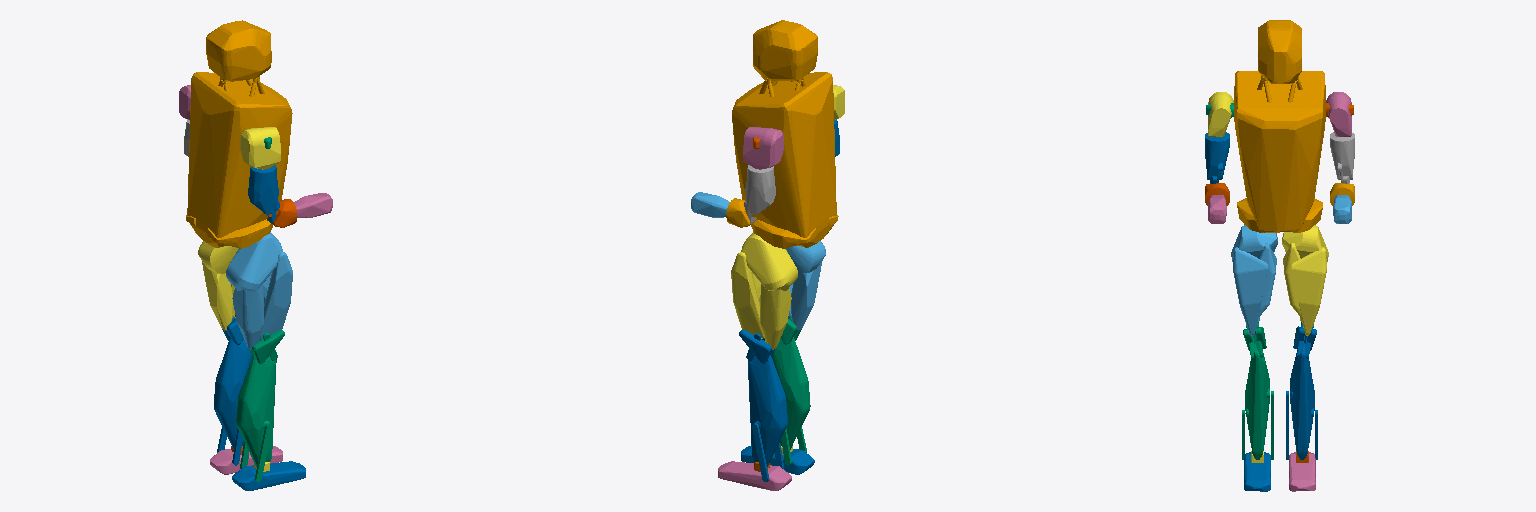
The robot description file, URDF, robot "dropbear_serial_cem6_2026_10_16":
<?xml version="1.0"?>
<!-- GENERATED by tools/export_serial_hw.py from data/robot/dropbear_serial.xml (sha256 1564a82c6fcc7f10). DERIVED, NOT CANONICAL: dropbear-semantic-v1 serial joints, closed loops collapsed, masses lumped from the USD (total 56.175 kg). effort = sum|J| x PEAK of hw map 'cem6_2026_10_16' at the stand (upper bound), velocity = first coupled motor at no-load; armature/rated/kp/kd per joint in the comment. Motor-space limits (hw_motor_specs) are the source of truth. Do not edit by hand. -->
<robot name="dropbear_serial_cem6_2026_10_16">
  <link name="pelvis">
    <inertial><origin xyz="-0.05276259 0.00117719 0.32691659" rpy="0 0 0"/><mass value="25.614368"/><inertia ixx="1.28768434" ixy="-0.000254852" ixz="-0.070223642" iyy="1.26313905" iyz="-0.000599618" izz="0.325192407"/></inertial>
    <visual><origin xyz="-3.46944695e-17 9.21571847e-19 2.22044605e-16" rpy="-3.30553789e-19 2.24844806e-18 1.22969549e-17"/><geometry><mesh filename="meshes/mesh_pelvis.stl"/></geometry></visual>
  </link>
  <link name="left_hip_pitch_link">
    <inertial><origin xyz="0 0 0" rpy="0 0 0"/><mass value="0.01"/><inertia ixx="1e-05" ixy="0" ixz="0" iyy="1e-05" iyz="0" izz="1e-05"/></inertial>
  </link>
  <link name="left_hip_roll_link">
    <inertial><origin xyz="0 0 0" rpy="0 0 0"/><mass value="0.01"/><inertia ixx="1e-05" ixy="0" ixz="0" iyy="1e-05" iyz="0" izz="1e-05"/></inertial>
  </link>
  <link name="left_hip_yaw_link">
    <inertial><origin xyz="-0.02605913 0.04554609 -0.09173485" rpy="0 0 0"/><mass value="5.768055"/><inertia ixx="0.062462836" ixy="0.00014812" ixz="-0.001910969" iyy="0.074072299" iyz="0.00100805" izz="0.023644899"/></inertial>
    <visual><origin xyz="1.90819582e-17 -1.5959456e-16 5.27355937e-16" rpy="-9.26631385e-18 2.09195787e-17 2.47965594e-17"/><geometry><mesh filename="meshes/mesh_left_hip_yaw_link.stl"/></geometry></visual>
  </link>
  <link name="left_knee_link">
    <inertial><origin xyz="-0.08756693 0.0402031 -0.05707866" rpy="0 0 0"/><mass value="3.497937"/><inertia ixx="0.083033605" ixy="3.451e-06" ixz="-0.005914893" iyy="0.084118731" iyz="0.003904969" izz="0.007456186"/></inertial>
    <visual><origin xyz="2.77555756e-16 -1.31838984e-16 9.71445147e-17" rpy="4.61141921e-18 -8.74676759e-18 -1.05688893e-17"/><geometry><mesh filename="meshes/mesh_left_knee_link.stl"/></geometry></visual>
  </link>
  <link name="left_ankle_pitch_link">
    <inertial><origin xyz="-2.372e-05 0.00985977 -0.02139279" rpy="0 0 0"/><mass value="0.104245"/><inertia ixx="7.2119e-05" ixy="-1.75e-07" ixz="7.1e-08" iyy="5.9559e-05" iyz="-8.953e-06" izz="3.9322e-05"/></inertial>
    <visual><origin xyz="2.37169225e-20 -1.73472348e-17 2.42861287e-17" rpy="1.11960236e-19 -4.71292408e-19 9.68790218e-19"/><geometry><mesh filename="meshes/mesh_left_ankle_pitch_link.stl"/></geometry></visual>
  </link>
  <link name="left_ankle_roll_link">
    <inertial><origin xyz="0.02930599 0.00044839 -0.00756169" rpy="0 0 0"/><mass value="0.935217"/><inertia ixx="0.007999991" ixy="-0.00032221" ixz="-5.2586e-05" iyy="0.012203137" iyz="-0.002320467" izz="0.008299293"/></inertial>
    <visual><origin xyz="-2.18575158e-16 -4.98732999e-18 3.81639165e-17" rpy="1.1007881e-19 -3.96779759e-17 -3.86753195e-19"/><geometry><mesh filename="meshes/mesh_left_ankle_roll_link.stl"/></geometry></visual>
  </link>
  <link name="right_hip_pitch_link">
    <inertial><origin xyz="0 0 0" rpy="0 0 0"/><mass value="0.01"/><inertia ixx="1e-05" ixy="0" ixz="0" iyy="1e-05" iyz="0" izz="1e-05"/></inertial>
  </link>
  <link name="right_hip_roll_link">
    <inertial><origin xyz="0 0 0" rpy="0 0 0"/><mass value="0.01"/><inertia ixx="1e-05" ixy="0" ixz="0" iyy="1e-05" iyz="0" izz="1e-05"/></inertial>
  </link>
  <link name="right_hip_yaw_link">
    <inertial><origin xyz="-0.02718943 -0.04571627 -0.09154041" rpy="0 0 0"/><mass value="5.77635"/><inertia ixx="0.062687711" ixy="-0.000110081" ixz="-0.001912859" iyy="0.074531727" iyz="-0.001710632" izz="0.023406176"/></inertial>
    <visual><origin xyz="2.42861287e-17 1.17961196e-16 3.60822483e-16" rpy="5.23731269e-18 -1.20311323e-17 6.42521679e-19"/><geometry><mesh filename="meshes/mesh_right_hip_yaw_link.stl"/></geometry></visual>
  </link>
  <link name="right_knee_link">
    <inertial><origin xyz="-0.0875803 -0.04020399 -0.05975266" rpy="0 0 0"/><mass value="3.497937"/><inertia ixx="0.083019384" ixy="-0.000689239" ixz="-0.005962921" iyy="0.084114273" iyz="-0.009354553" izz="0.007465708"/></inertial>
    <visual><origin xyz="2.35922393e-16 1.17961196e-16 9.02056208e-17" rpy="2.46859741e-17 2.08462494e-17 1.50708304e-16"/><geometry><mesh filename="meshes/mesh_right_knee_link.stl"/></geometry></visual>
  </link>
  <link name="right_ankle_pitch_link">
    <inertial><origin xyz="-3.104e-05 -0.00986025 -0.02139654" rpy="0 0 0"/><mass value="0.104245"/><inertia ixx="7.2107e-05" ixy="-3.71e-07" ixz="-1.2e-07" iyy="6.2955e-05" iyz="-4.37e-07" izz="3.5938e-05"/></inertial>
    <visual><origin xyz="1.01643954e-20 1.73472348e-18 3.46944695e-18" rpy="-4.86270359e-20 2.25822239e-20 6.371886e-19"/><geometry><mesh filename="meshes/mesh_right_ankle_pitch_link.stl"/></geometry></visual>
  </link>
  <link name="right_ankle_roll_link">
    <inertial><origin xyz="0.02931384 -0.00048246 -0.00752314" rpy="0 0 0"/><mass value="0.935217"/><inertia ixx="0.007989099" ixy="-0.000211066" ixz="-0.000174729" iyy="0.013178816" iyz="-0.000349537" izz="0.007334506"/></inertial>
    <visual><origin xyz="-2.08166817e-16 5.09575021e-18 3.46944695e-17" rpy="-2.80195421e-19 -1.85180993e-16 6.59834953e-19"/><geometry><mesh filename="meshes/mesh_right_ankle_roll_link.stl"/></geometry></visual>
  </link>
  <link name="left_shoulder_pitch_link">
    <inertial><origin xyz="0.00141069 0.02653182 6e-08" rpy="0 0 0"/><mass value="0.343923"/><inertia ixx="0.000426784" ixy="-1.1385e-05" ixz="7.95681245e-22" iyy="0.00011962" iyz="1e-09" izz="0.000443404"/></inertial>
    <visual><origin xyz="-2.25514052e-17 -3.05311332e-16 -2.51801719e-18" rpy="6.76301913e-17 7.3191391e-17 1.05711313e-17"/><geometry><mesh filename="meshes/mesh_left_shoulder_pitch_link.stl"/></geometry></visual>
  </link>
  <link name="left_shoulder_roll_link">
    <inertial><origin xyz="-0.0291094 0.00435951 -0.01811314" rpy="0 0 0"/><mass value="1.200415"/><inertia ixx="0.002522438" ixy="-0.000125576" ixz="0.000502998" iyy="0.003543962" iyz="0.000234063" izz="0.002478347"/></inertial>
    <visual><origin xyz="3.6429193e-17 -2.25514052e-17 9.36750677e-17" rpy="6.04449705e-18 3.74903463e-17 -1.34667751e-17"/><geometry><mesh filename="meshes/mesh_left_shoulder_roll_link.stl"/></geometry></visual>
  </link>
  <link name="left_shoulder_yaw_link">
    <inertial><origin xyz="0.00151562 0.00606547 -0.17773896" rpy="0 0 0"/><mass value="1.837935"/><inertia ixx="0.013360456" ixy="0.000387625" ixz="0.001273172" iyy="0.014018546" iyz="-0.001671003" izz="0.003832121"/></inertial>
    <visual><origin xyz="-1.95156391e-17 -1.69135539e-17 7.49400542e-16" rpy="-1.73718487e-17 2.81840137e-17 -2.6549467e-17"/><geometry><mesh filename="meshes/mesh_left_shoulder_yaw_link.stl"/></geometry></visual>
  </link>
  <link name="left_elbow_link">
    <inertial><origin xyz="0.0709169 0.00987912 -0.02090957" rpy="0 0 0"/><mass value="0.91566"/><inertia ixx="0.001535587" ixy="0.001055547" ixz="-0.000120596" iyy="0.004601152" iyz="3.8791e-05" izz="0.00492998"/></inertial>
    <visual><origin xyz="-4.64905892e-16 -1.11022302e-16 1.73472348e-16" rpy="-3.34337033e-17 -2.56768429e-17 7.99438102e-17"/><geometry><mesh filename="meshes/mesh_left_elbow_link.stl"/></geometry></visual>
  </link>
  <link name="left_wrist_roll_link">
    <inertial><origin xyz="0.09482238 -1.3e-07 -3.659e-05" rpy="0 0 0"/><mass value="0.65258"/><inertia ixx="0.000350034" ixy="2.6e-08" ixz="3.16e-07" iyy="0.001254792" iyz="8.15783608e-22" izz="0.0012628"/></inertial>
    <visual><origin xyz="-7.35522754e-16 -1.73218238e-19 5.4142346e-18" rpy="1.30051346e-17 5.73555976e-17 1.98348538e-18"/><geometry><mesh filename="meshes/mesh_left_wrist_roll_link.stl"/></geometry></visual>
  </link>
  <link name="right_shoulder_pitch_link">
    <inertial><origin xyz="0.00140957 -0.02653214 2.6e-07" rpy="0 0 0"/><mass value="0.343923"/><inertia ixx="0.000426777" ixy="1.1385e-05" ixz="-2.20401017e-21" iyy="0.00011962" iyz="-1e-09" izz="0.000443397"/></inertial>
    <visual><origin xyz="-1.6479873e-17 2.42861287e-16 6.46709655e-19" rpy="1.78889002e-17 -2.05153102e-17 2.54158221e-17"/><geometry><mesh filename="meshes/mesh_right_shoulder_pitch_link.stl"/></geometry></visual>
  </link>
  <link name="right_shoulder_roll_link">
    <inertial><origin xyz="-0.0291094 -0.00435976 -0.01811298" rpy="0 0 0"/><mass value="1.200415"/><inertia ixx="0.002522439" ixy="0.000121408" ixz="0.000502998" iyy="0.003543962" iyz="-0.000248063" izz="0.002478347"/></inertial>
    <visual><origin xyz="2.77555756e-17 1.73472348e-17 6.59194921e-17" rpy="-2.85243167e-17 -7.46358252e-17 -6.28270476e-18"/><geometry><mesh filename="meshes/mesh_right_shoulder_roll_link.stl"/></geometry></visual>
  </link>
  <link name="right_shoulder_yaw_link">
    <inertial><origin xyz="0.00150219 -0.00606527 -0.17776347" rpy="0 0 0"/><mass value="1.837935"/><inertia ixx="0.013406779" ixy="0.000366114" ixz="0.001269261" iyy="0.014024188" iyz="-0.002482858" izz="0.003791443"/></inertial>
    <visual><origin xyz="-9.97465999e-18 1.17093835e-17 6.66133815e-16" rpy="-5.32303234e-18 -1.13596387e-17 2.15235843e-17"/><geometry><mesh filename="meshes/mesh_right_shoulder_yaw_link.stl"/></geometry></visual>
  </link>
  <link name="right_elbow_link">
    <inertial><origin xyz="0.06937028 -0.00987964 -0.0206965" rpy="0 0 0"/><mass value="0.91566"/><inertia ixx="0.001535918" ixy="0.000947974" ixz="-0.000120747" iyy="0.004596874" iyz="3.7273e-05" izz="0.004925373"/></inertial>
    <visual><origin xyz="-2.08166817e-16 5.03069808e-17 7.63278329e-17" rpy="-4.62106923e-17 -4.92157441e-17 -1.38581974e-16"/><geometry><mesh filename="meshes/mesh_right_elbow_link.stl"/></geometry></visual>
  </link>
  <link name="right_wrist_roll_link">
    <inertial><origin xyz="0.09482256 6e-08 -3.671e-05" rpy="0 0 0"/><mass value="0.65258"/><inertia ixx="0.000350034" ixy="-2.6e-08" ixz="3.16e-07" iyy="0.001254792" iyz="-8.15783608e-22" izz="0.0012628"/></inertial>
    <visual><origin xyz="-7.21644966e-16 -2.61521422e-20 -5.42101086e-19" rpy="9.06783844e-18 -9.1827299e-18 2.54712494e-19"/><geometry><mesh filename="meshes/mesh_right_wrist_roll_link.stl"/></geometry></visual>
  </link>
  <link name="torso_link">
  </link>
  <link name="head_link">
  </link>
  <joint name="left_hip_pitch" type="revolute"><parent link="pelvis"/><child link="left_hip_pitch_link"/><origin xyz="-0.00040929 0.07591014 0.00607059" rpy="0 -0 0"/><axis xyz="0 1 0"/><limit lower="-1.02643083" upper="0.584710742" effort="82.15" velocity="8.504"/><dynamics damping="0.5" friction="0"/></joint><!-- left_hip_pitch: armature 0.06200 kg*m^2, rated 62.76 N*m, kp 198.7, kd 5.005; motors {'PG_left_leg_pitch': 'EPS-CEM-60-V2', 'PG_left_leg_roll': 'RMD-X10-V3-1:7', 'LL_hip_joint': 'EPS-CEM-60-V2'} -->
  <joint name="left_hip_roll" type="revolute"><parent link="left_hip_pitch_link"/><child link="left_hip_roll_link"/><origin xyz="0.00040934 -0.01429345 0.06972254" rpy="0 -0 0"/><axis xyz="1 0 0"/><limit lower="-0.497732548" upper="0.793191191" effort="80.17" velocity="8.435"/><dynamics damping="0.5" friction="0"/></joint><!-- left_hip_roll: armature 0.06249 kg*m^2, rated 62.32 N*m, kp 149.8, kd 4.991; motors {'PG_left_leg_pitch': 'EPS-CEM-60-V2', 'PG_left_leg_roll': 'RMD-X10-V3-1:7', 'LL_hip_joint': 'EPS-CEM-60-V2'} -->
  <joint name="left_hip_yaw" type="revolute"><parent link="left_hip_roll_link"/><child link="left_hip_yaw_link"/><origin xyz="-0.00065675 -0.00663526 -0.07579357" rpy="0 -0 0"/><axis xyz="0 0 1"/><limit lower="-0.665783781" upper="0.660981186" effort="61.01" velocity="19.97"/><dynamics damping="0.5" friction="0"/></joint><!-- left_hip_yaw: armature 0.02941 kg*m^2, rated 32.18 N*m, kp 151.8, kd 5.007; motors {'PG_left_leg_pitch': 'EPS-CEM-60-V2', 'PG_left_leg_roll': 'RMD-X10-V3-1:7', 'LL_hip_joint': 'EPS-CEM-60-V2'} -->
  <joint name="left_knee" type="revolute"><parent link="left_hip_yaw_link"/><child link="left_knee_link"/><origin xyz="0.08274892 0.00090455 -0.57988091" rpy="-0.172096147 0.00170334874 0.0197457977"/><axis xyz="0 1 0"/><limit lower="-0.084924409" upper="0.823478274" effort="41.86" velocity="15.01"/><dynamics damping="0.5" friction="0"/></joint><!-- left_knee: armature 0.01963 kg*m^2, rated 33.49 N*m, kp 155.8, kd 1.558; motors {'LL_knee_actuator_joint': 'EPS-CEM-60-V2'} -->
  <joint name="left_ankle_pitch" type="revolute"><parent link="left_knee_link"/><child link="left_ankle_pitch_link"/><origin xyz="-0.07550804 0.07794833 -0.32723421" rpy="0.172096147 0.00170334874 -0.0197457977"/><axis xyz="0 1 0"/><limit lower="-0.707061449" upper="0.767635872" effort="55.82" velocity="12.9"/><dynamics damping="0.5" friction="0"/></joint><!-- left_ankle_pitch: armature 0.07048 kg*m^2, rated 22.33 N*m, kp 204.7, kd 10.24; motors {'LL_Revolute67': 'RMD-X8-Pro-V2-1:9', 'LL_Revolute81': 'RMD-X8-Pro-V2-1:9'} -->
  <joint name="left_ankle_roll" type="revolute"><parent link="left_ankle_pitch_link"/><child link="left_ankle_roll_link"/><origin xyz="9.56e-06 0.00990797 -0.04025261" rpy="0 -0 0"/><axis xyz="1 0 0"/><limit lower="-0.783363706" upper="0.570920306" effort="73.52" velocity="9.744"/><dynamics damping="0.5" friction="0"/></joint><!-- left_ankle_roll: armature 0.12251 kg*m^2, rated 29.41 N*m, kp 355.9, kd 17.79; motors {'LL_Revolute67': 'RMD-X8-Pro-V2-1:9', 'LL_Revolute81': 'RMD-X8-Pro-V2-1:9'} -->
  <joint name="right_hip_pitch" type="revolute"><parent link="pelvis"/><child link="right_hip_pitch_link"/><origin xyz="-0.00031341 -0.07591014 0.00591324" rpy="0 -0 0"/><axis xyz="0 1 0"/><limit lower="-1.02475391" upper="0.584734182" effort="82.28" velocity="8.503"/><dynamics damping="0.5" friction="0"/></joint><!-- right_hip_pitch: armature 0.06202 kg*m^2, rated 62.86 N*m, kp 198.7, kd 5.007; motors {'PG_right_leg_pitch': 'EPS-CEM-60-V2', 'PG_right_leg_roll': 'RMD-X10-V3-1:7', 'RL_hip_joint': 'EPS-CEM-60-V2'} -->
  <joint name="right_hip_roll" type="revolute"><parent link="right_hip_pitch_link"/><child link="right_hip_roll_link"/><origin xyz="0.00031337 0.01417398 0.06918984" rpy="0 -0 0"/><axis xyz="1 0 0"/><limit lower="-0.790069303" upper="0.494695399" effort="80.33" velocity="8.428"/><dynamics damping="0.5" friction="0"/></joint><!-- right_hip_roll: armature 0.06260 kg*m^2, rated 62.42 N*m, kp 150.1, kd 5.001; motors {'PG_right_leg_pitch': 'EPS-CEM-60-V2', 'PG_right_leg_roll': 'RMD-X10-V3-1:7', 'RL_hip_joint': 'EPS-CEM-60-V2'} -->
  <joint name="right_hip_yaw" type="revolute"><parent link="right_hip_roll_link"/><child link="right_hip_yaw_link"/><origin xyz="0.00053521 0.00701623 -0.07510265" rpy="0 -0 0"/><axis xyz="0 0 1"/><limit lower="-0.664176495" upper="0.664058959" effort="60.39" velocity="19.97"/><dynamics damping="0.5" friction="0"/></joint><!-- right_hip_yaw: armature 0.02927 kg*m^2, rated 31.68 N*m, kp 151.4, kd 4.996; motors {'PG_right_leg_pitch': 'EPS-CEM-60-V2', 'PG_right_leg_roll': 'RMD-X10-V3-1:7', 'RL_hip_joint': 'EPS-CEM-60-V2'} -->
  <joint name="right_knee" type="revolute"><parent link="right_hip_yaw_link"/><child link="right_knee_link"/><origin xyz="0.08180791 -0.00163093 -0.57725429" rpy="0.172102939 0.00171067025 -0.019829879"/><axis xyz="0 1 0"/><limit lower="-0.085897619" upper="0.838013749" effort="41.34" velocity="15.2"/><dynamics damping="0.5" friction="0"/></joint><!-- right_knee: armature 0.01914 kg*m^2, rated 33.07 N*m, kp 151.9, kd 1.519; motors {'RL_knee_actuator_joint': 'EPS-CEM-60-V2'} -->
  <joint name="right_ankle_pitch" type="revolute"><parent link="right_knee_link"/><child link="right_ankle_pitch_link"/><origin xyz="-0.07562846 -0.07794774 -0.32990166" rpy="-0.172102939 0.00171067025 0.019829879"/><axis xyz="0 1 0"/><limit lower="-0.771028324" upper="0.744878518" effort="55.87" velocity="12.78"/><dynamics damping="0.5" friction="0"/></joint><!-- right_ankle_pitch: armature 0.07085 kg*m^2, rated 22.35 N*m, kp 205.8, kd 10.29; motors {'RL_Revolute67': 'RMD-X8-Pro-V2-1:9', 'RL_Revolute81': 'RMD-X8-Pro-V2-1:9'} -->
  <joint name="right_ankle_roll" type="revolute"><parent link="right_ankle_pitch_link"/><child link="right_ankle_roll_link"/><origin xyz="-1.25e-06 -0.00987667 -0.04028791" rpy="0 -0 0"/><axis xyz="1 0 0"/><limit lower="-0.528420333" upper="0.838770967" effort="73.64" velocity="9.737"/><dynamics damping="0.5" friction="0"/></joint><!-- right_ankle_roll: armature 0.12285 kg*m^2, rated 29.45 N*m, kp 356.9, kd 17.84; motors {'RL_Revolute67': 'RMD-X8-Pro-V2-1:9', 'RL_Revolute81': 'RMD-X8-Pro-V2-1:9'} -->
  <joint name="left_shoulder_pitch" type="revolute"><parent link="pelvis"/><child link="left_shoulder_pitch_link"/><origin xyz="-0.07628731 0.17450197 0.50910023" rpy="0 -0 0"/><axis xyz="0 1 0"/><limit lower="-3.14227917" upper="3.14254433" effort="40" velocity="19.54"/><dynamics damping="0.5" friction="0"/></joint><!-- left_shoulder_pitch: armature 0.02781 kg*m^2, rated 15 N*m, kp 80, kd 3; motors {'LH_yaw': 'RMD-X10-V3-1:7'} -->
  <joint name="left_shoulder_roll" type="revolute"><parent link="left_shoulder_pitch_link"/><child link="left_shoulder_roll_link"/><origin xyz="-4e-08 0.05000049 1.4e-07" rpy="0 -0 0"/><axis xyz="1 0 0"/><limit lower="-0.174579373" upper="3.14163226" effort="25" velocity="16.76"/><dynamics damping="0.5" friction="0"/></joint><!-- left_shoulder_roll: armature 0.02754 kg*m^2, rated 10 N*m, kp 50, kd 2; motors {'LH_pitch': 'RMD-X8-Pro-V2-1:9'} -->
  <joint name="left_shoulder_yaw" type="revolute"><parent link="left_shoulder_roll_link"/><child link="left_shoulder_yaw_link"/><origin xyz="1.09e-06 0.01399955 -1.4e-07" rpy="0 -0 0"/><axis xyz="0 0 1"/><limit lower="-3.14228523" upper="3.14254515" effort="25" velocity="16.76"/><dynamics damping="0.5" friction="0"/></joint><!-- left_shoulder_yaw: armature 0.02754 kg*m^2, rated 10 N*m, kp 50, kd 2; motors {'LH_roll': 'RMD-X8-Pro-V2-1:9'} -->
  <joint name="left_elbow" type="revolute"><parent link="left_shoulder_yaw_link"/><child link="left_elbow_link"/><origin xyz="0.02324603 -0.00899997 -0.29754745" rpy="6.6944e-08 -7.19554278e-15 2.14972e-07"/><axis xyz="0 1 0"/><limit lower="-0.572478782" upper="1.54445309" effort="5.19" velocity="80.71"/><dynamics damping="0.5" friction="0"/></joint><!-- left_elbow: armature 0.00119 kg*m^2, rated 2.076 N*m, kp 2.155, kd 0.0862; motors {'LH_elbow_joint': 'RMD-X8-Pro-V2-1:9'} -->
  <joint name="left_wrist_roll" type="revolute"><parent link="left_elbow_link"/><child link="left_wrist_roll_link"/><origin xyz="0.09932683 0.00899961 -0.02116356" rpy="-6.69420429e-08 1.7709632e-05 -4.84859276e-09"/><axis xyz="1 0 0"/><limit lower="-3.14159265" upper="3.14159265" effort="25" velocity="16.76"/><dynamics damping="0.5" friction="0"/></joint><!-- left_wrist_roll: armature 0.02754 kg*m^2, rated 10 N*m, kp 50, kd 2; motors {'LH_wrist_roll': 'RMD-X8-Pro-V2-1:9'} -->
  <joint name="right_shoulder_pitch" type="revolute"><parent link="pelvis"/><child link="right_shoulder_pitch_link"/><origin xyz="-0.07628619 -0.17449804 0.50910016" rpy="0 -0 0"/><axis xyz="0 1 0"/><limit lower="-3.14257849" upper="3.14231457" effort="40" velocity="19.54"/><dynamics damping="0.5" friction="0"/></joint><!-- right_shoulder_pitch: armature 0.02781 kg*m^2, rated 15 N*m, kp 80, kd 3; motors {'RH_yaw': 'RMD-X10-V3-1:7'} -->
  <joint name="right_shoulder_roll" type="revolute"><parent link="right_shoulder_pitch_link"/><child link="right_shoulder_roll_link"/><origin xyz="-1.16e-06 -0.05000024 5e-08" rpy="0 -0 0"/><axis xyz="1 0 0"/><limit lower="-3.14164478" upper="0.17458373" effort="25" velocity="16.76"/><dynamics damping="0.5" friction="0"/></joint><!-- right_shoulder_roll: armature 0.02754 kg*m^2, rated 10 N*m, kp 50, kd 2; motors {'RH_pitch': 'RMD-X8-Pro-V2-1:9'} -->
  <joint name="right_shoulder_yaw" type="revolute"><parent link="right_shoulder_roll_link"/><child link="right_shoulder_yaw_link"/><origin xyz="1.18e-06 -0.01400002 1.4e-07" rpy="0 -0 0"/><axis xyz="0 0 1"/><limit lower="-3.14215481" upper="3.14236663" effort="25" velocity="16.76"/><dynamics damping="0.5" friction="0"/></joint><!-- right_shoulder_yaw: armature 0.02754 kg*m^2, rated 10 N*m, kp 50, kd 2; motors {'RH_roll': 'RMD-X8-Pro-V2-1:9'} -->
  <joint name="right_elbow" type="revolute"><parent link="right_shoulder_yaw_link"/><child link="right_elbow_link"/><origin xyz="0.02339266 0.0090002 -0.29860348" rpy="-3.72548e-07 2.17210386e-14 1.16608e-07"/><axis xyz="0 1 0"/><limit lower="-0.634044318" upper="1.54260182" effort="4.932" velocity="84.92"/><dynamics damping="0.5" friction="0"/></joint><!-- right_elbow: armature 0.00107 kg*m^2, rated 1.973 N*m, kp 1.946, kd 0.07785; motors {'RH_elbow_joint': 'RMD-X8-Pro-V2-1:9'} -->
  <joint name="right_wrist_roll" type="revolute"><parent link="right_elbow_link"/><child link="right_wrist_roll_link"/><origin xyz="0.09774158 -0.00900003 -0.02095964" rpy="3.72545904e-07 -1.6617842e-05 1.15629045e-08"/><axis xyz="1 0 0"/><limit lower="-3.14159265" upper="3.14159265" effort="25" velocity="16.76"/><dynamics damping="0.5" friction="0"/></joint><!-- right_wrist_roll: armature 0.02754 kg*m^2, rated 10 N*m, kp 50, kd 2; motors {'RH_wrist_roll': 'RMD-X8-Pro-V2-1:9'} -->
  <joint name="torso_link_fixed" type="fixed"><parent link="pelvis"/><child link="torso_link"/><origin xyz="0.05964271 0.02497491 0.52644435" rpy="0 -0 0"/></joint>
  <joint name="head_link_fixed" type="fixed"><parent link="pelvis"/><child link="head_link"/><origin xyz="0.0024337 0.06021314 0.66516045" rpy="0 -0 0"/></joint>
</robot>

--- Facts derived from the render (not from the file) ---
Views: 3 orthographic renders of the robot side by side, from view 1: azimuth 30°, elevation 25°; view 2: azimuth 150°, elevation 25°; view 3: azimuth 270°, elevation 25°.
Model dropbear_serial_cem6_2026_10_16 with 25 links and 24 joints (22 revolute, 2 fixed), rooted at pelvis, posed all joints at 0.
Visible links, largest first — view 1: pelvis, right_hip_yaw_link, right_knee_link, left_knee_link, left_hip_yaw_link, right_shoulder_roll_link, right_ankle_roll_link, right_shoulder_yaw_link, right_wrist_roll_link, left_ankle_roll_link, right_elbow_link; view 2: pelvis, left_hip_yaw_link, left_knee_link, right_knee_link, right_hip_yaw_link, left_shoulder_roll_link, left_ankle_roll_link, left_shoulder_yaw_link, left_wrist_roll_link, right_ankle_roll_link, left_elbow_link; view 3: pelvis, left_hip_yaw_link, right_hip_yaw_link, right_knee_link, left_knee_link, right_shoulder_yaw_link, left_shoulder_yaw_link, right_shoulder_roll_link, left_shoulder_roll_link, right_ankle_roll_link, left_ankle_roll_link.
Boxes of the visible links, <box> form: pelvis: <box>186,20,292,248</box>; right_hip_yaw_link: <box>226,232,292,349</box>; right_knee_link: <box>236,330,284,481</box>; left_knee_link: <box>214,315,252,465</box>; left_hip_yaw_link: <box>198,241,238,330</box>; right_shoulder_roll_link: <box>240,127,280,169</box>; right_ankle_roll_link: <box>232,461,305,490</box>; right_shoulder_yaw_link: <box>248,165,279,223</box>; right_wrist_roll_link: <box>294,193,332,217</box>; left_ankle_roll_link: <box>210,446,282,474</box>; right_elbow_link: <box>263,199,296,227</box>; pelvis: <box>732,20,838,248</box>; left_hip_yaw_link: <box>731,232,797,349</box>; left_knee_link: <box>739,330,787,481</box>; right_knee_link: <box>772,316,810,465</box>; right_hip_yaw_link: <box>785,241,825,330</box>; left_shoulder_roll_link: <box>743,127,783,169</box>; left_ankle_roll_link: <box>718,461,791,490</box>; left_shoulder_yaw_link: <box>744,165,775,223</box>; left_wrist_roll_link: <box>691,192,729,217</box>; right_ankle_roll_link: <box>741,445,814,474</box>; left_elbow_link: <box>726,198,760,227</box>; pelvis: <box>1234,20,1325,232</box>; left_hip_yaw_link: <box>1282,225,1328,335</box>; right_hip_yaw_link: <box>1231,225,1277,335</box>; right_knee_link: <box>1242,322,1273,459</box>; left_knee_link: <box>1286,322,1317,459</box>; right_shoulder_yaw_link: <box>1205,132,1229,183</box>; left_shoulder_yaw_link: <box>1330,132,1354,183</box>; right_shoulder_roll_link: <box>1208,92,1233,136</box>; left_shoulder_roll_link: <box>1326,92,1351,136</box>; right_ankle_roll_link: <box>1244,452,1270,491</box>; left_ankle_roll_link: <box>1289,452,1315,491</box>.
Bounding box of the posed robot: 0.425 × 0.575 × 1.87 m (x, y, z).
19 mesh visuals loaded from 19 distinct referenced files (19 binary STL).
